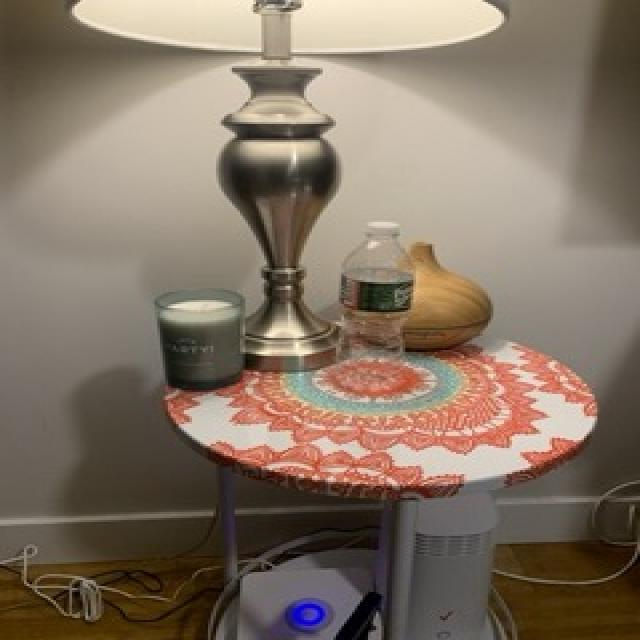water_bottle: (330, 219, 418, 392)
